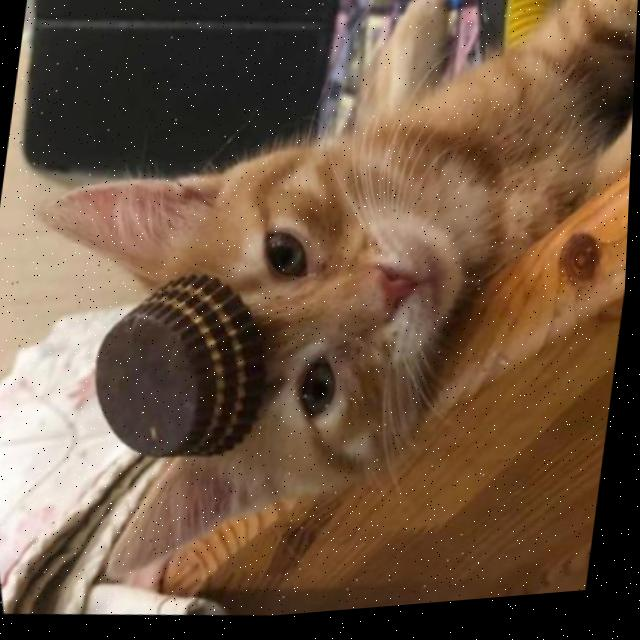Cats: (0, 42, 554, 631)
